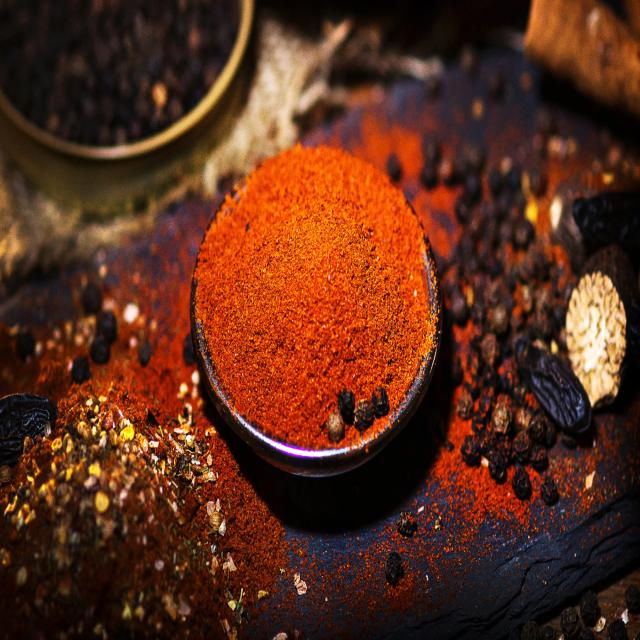Black pepper: (30, 0, 174, 119), (384, 544, 411, 598), (131, 336, 156, 382), (460, 425, 480, 481), (335, 378, 357, 428), (322, 408, 349, 444), (489, 157, 512, 197), (488, 308, 515, 337)
Paprika: (189, 139, 431, 456)
